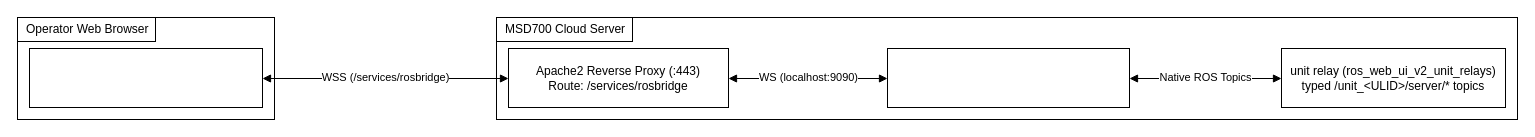
Image size: 1535x137. Some labels were removed from this diagram. Each missing label, with the box of its shape:
ROS2D.js / roslibjs Map Canvas & Telemetry Display: (28, 48, 262, 108)
rosbridge_suite WebSocket Server (Port: 9090): (886, 48, 1130, 108)
